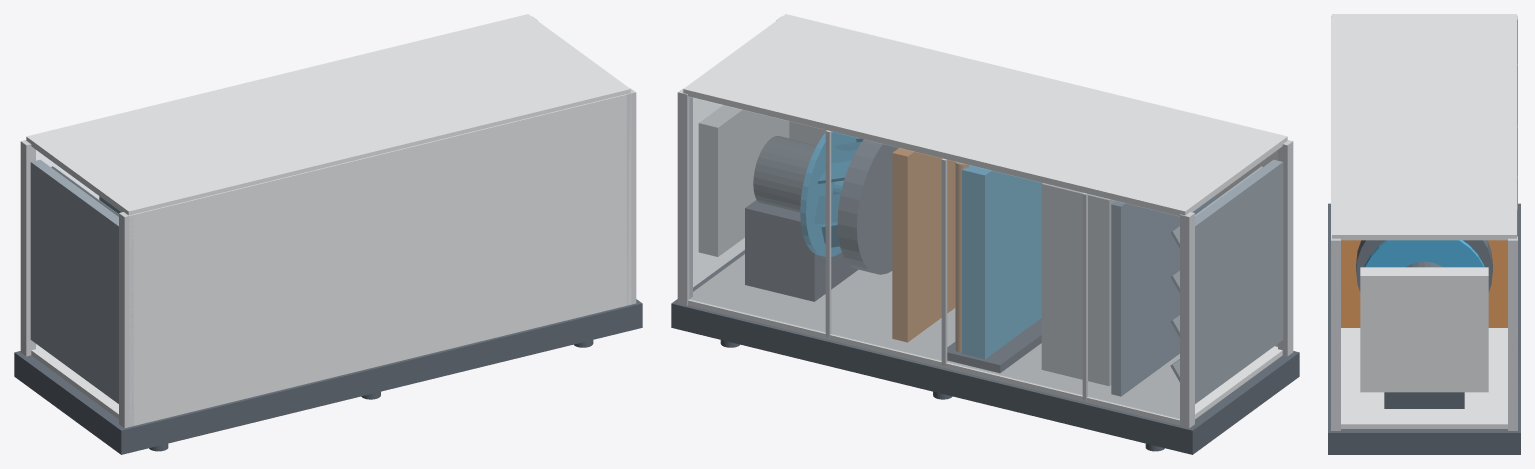
File: ahu.glb
The picture shows the model from 3 angles, left to right: view 1: azimuth 30°, elevation 25°; view 2: azimuth 150°, elevation 25°; view 3: azimuth 270°, elevation 25°; orthographic projection. The views are drawn at different scales.
Visible parts, largest first — view 1: BackWall, RoofPanel, PlinthFrame, IntakeCollar, CornerPost_-1.3_-0.44, CornerPost_-1.3_0.44, CornerPost_1.3_-0.44, FloorPan; view 2: FrontCutawayWindow, RoofPanel, FloorPan, PlinthFrame, IntakeCollar, CoolingCoil, BagFilter_3, PreFilter, HeatingCoil, SupplyDischargeCollar, MotorPedestal, FanInletCone (+11 smaller); view 3: RoofPanel, SupplyDischargeCollar, FloorPan, PlinthFrame, HeatingCoil, ImpellerBackplate, CornerPost_1.3_0.44, CornerPost_1.3_-0.44, MotorPedestal, FanInletCone, BackWall.
Part boxes in pixels (x1,y1,x2,y2): BackWall: [129, 94, 631, 426]; RoofPanel: [26, 14, 630, 215]; PlinthFrame: [14, 299, 642, 454]; IntakeCollar: [30, 159, 118, 403]; CornerPost_-1.3_-0.44: [119, 212, 133, 428]; CornerPost_-1.3_0.44: [20, 140, 35, 356]; CornerPost_1.3_-0.44: [626, 88, 636, 305]; FloorPan: [31, 344, 118, 419]; FrontCutawayWindow: [689, 97, 1179, 419]; RoofPanel: [683, 14, 1287, 216]; FloorPan: [688, 254, 1282, 425]; PlinthFrame: [671, 250, 1299, 454]; IntakeCollar: [1195, 159, 1283, 403]; CoolingCoil: [962, 165, 1042, 359]; BagFilter_3: [1041, 183, 1115, 385]; PreFilter: [1111, 196, 1214, 396]; HeatingCoil: [892, 148, 955, 342]; SupplyDischargeCollar: [698, 105, 789, 256]; MotorPedestal: [745, 200, 857, 301]; FanInletCone: [837, 139, 898, 274]; RoofPanel: [1332, 14, 1516, 240]; SupplyDischargeCollar: [1360, 267, 1488, 392]; FloorPan: [1341, 328, 1507, 428]; PlinthFrame: [1328, 203, 1520, 454]; HeatingCoil: [1341, 240, 1507, 327]; ImpellerBackplate: [1364, 240, 1484, 267]; CornerPost_1.3_0.44: [1508, 236, 1517, 430]; CornerPost_1.3_-0.44: [1331, 236, 1340, 430]; MotorPedestal: [1384, 392, 1464, 408]; FanInletCone: [1356, 240, 1492, 291]; BackWall: [1331, 17, 1331, 238].
Size of the model in its own units: 2.7 by 1.24 by 0.96.
